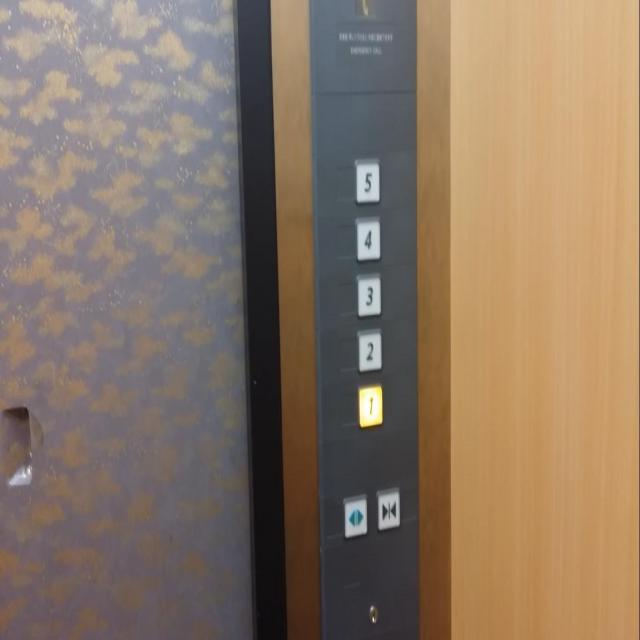1: (358, 383, 383, 430)
2: (357, 327, 383, 375)
3: (355, 272, 382, 318)
4: (354, 216, 382, 262)
5: (354, 157, 380, 205)
close: (376, 486, 401, 533)
keyhole: (369, 603, 378, 625)
open: (342, 492, 369, 540)
